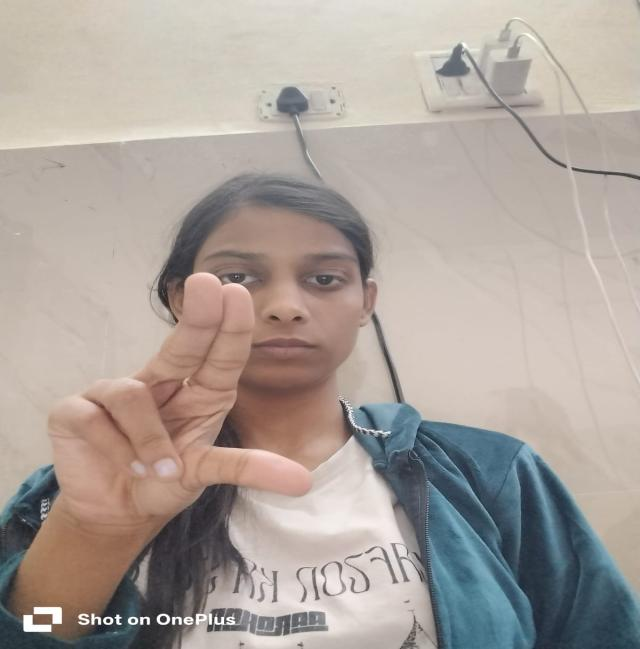No: (24, 260, 332, 540)
